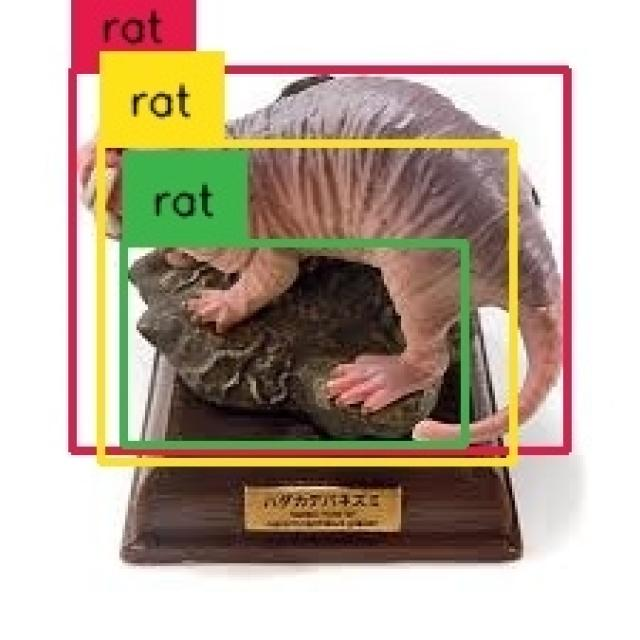rat: (71, 71, 569, 450), (100, 142, 512, 461), (125, 243, 467, 445)
